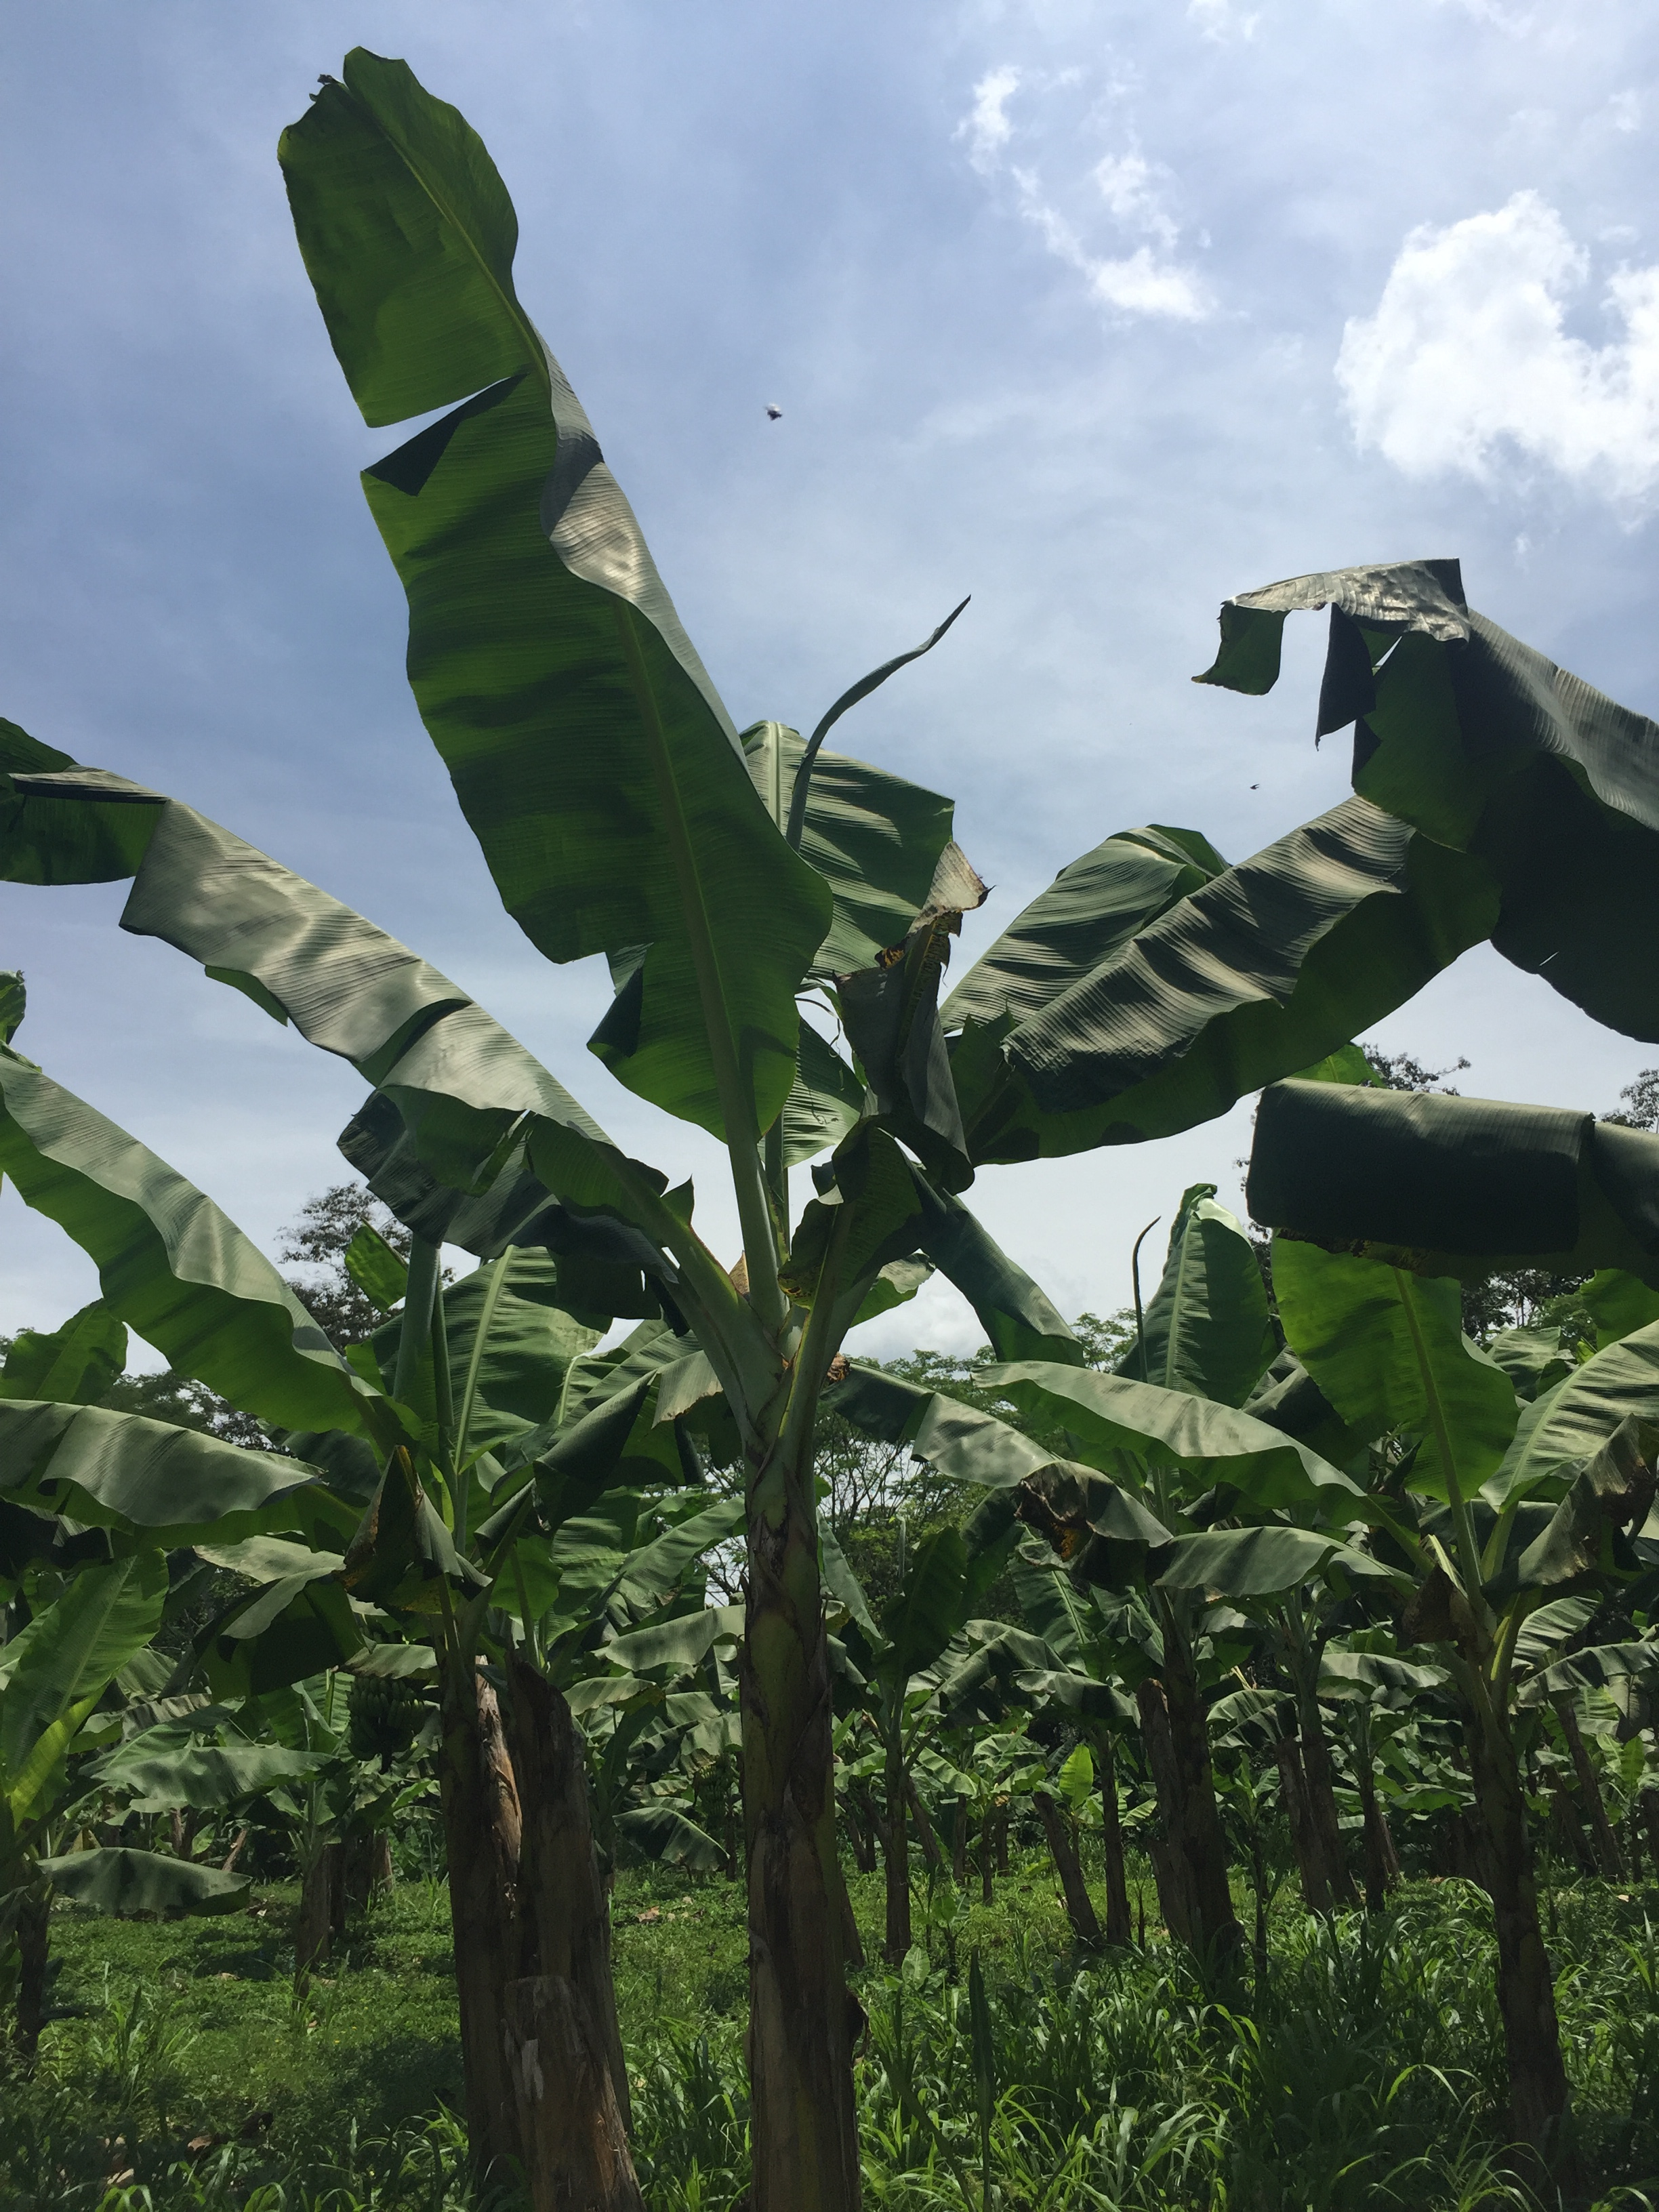candleleafs: (784, 594, 974, 859), (1133, 1216, 1162, 1385)
